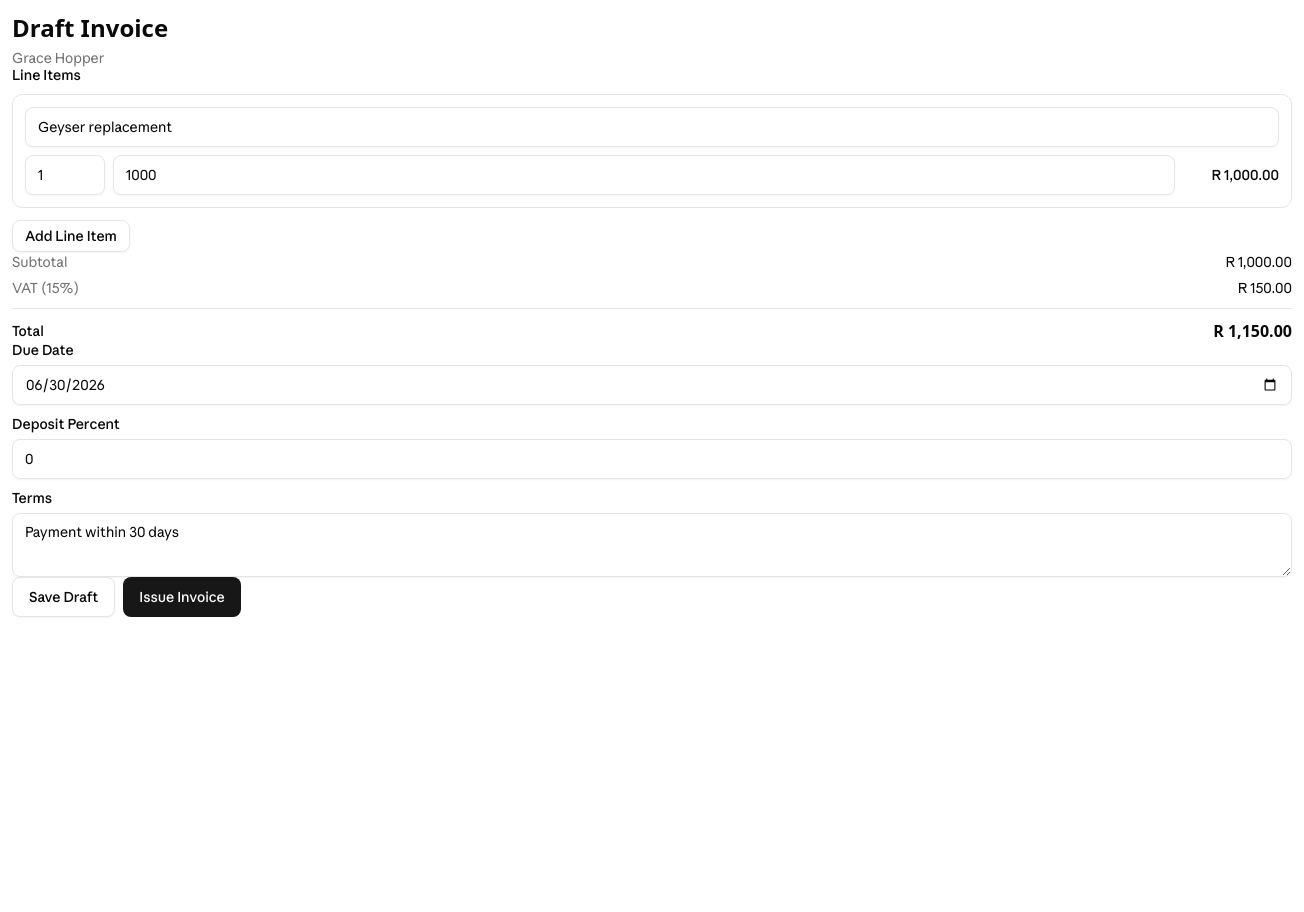
Test: InvoiceEditorClient — draft view › appends a new empty line item when "Add Line Item" is clicked
Click the button "Add Line Item": [71, 236] box top-left (12, 220), bottom-right (130, 252)
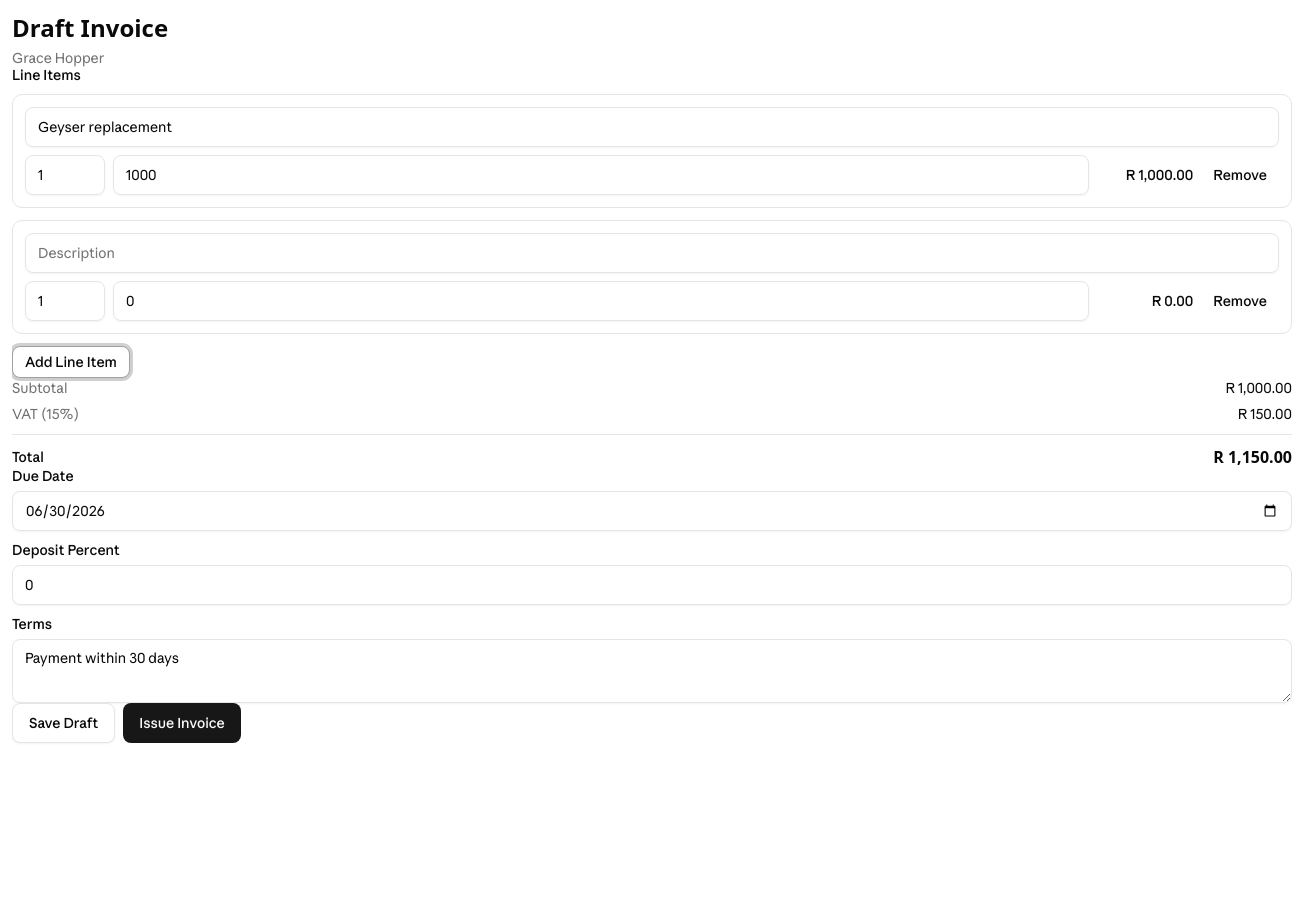
Now the number of fields with placeholder "Description" is 2, box top-left (25, 107), bottom-right (1279, 147); top-left (25, 233), bottom-right (1279, 273)
